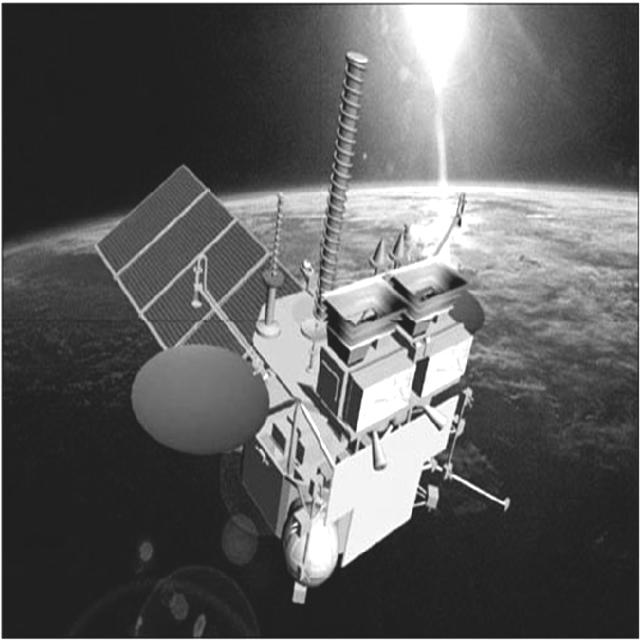satellite: (86, 42, 516, 616)
